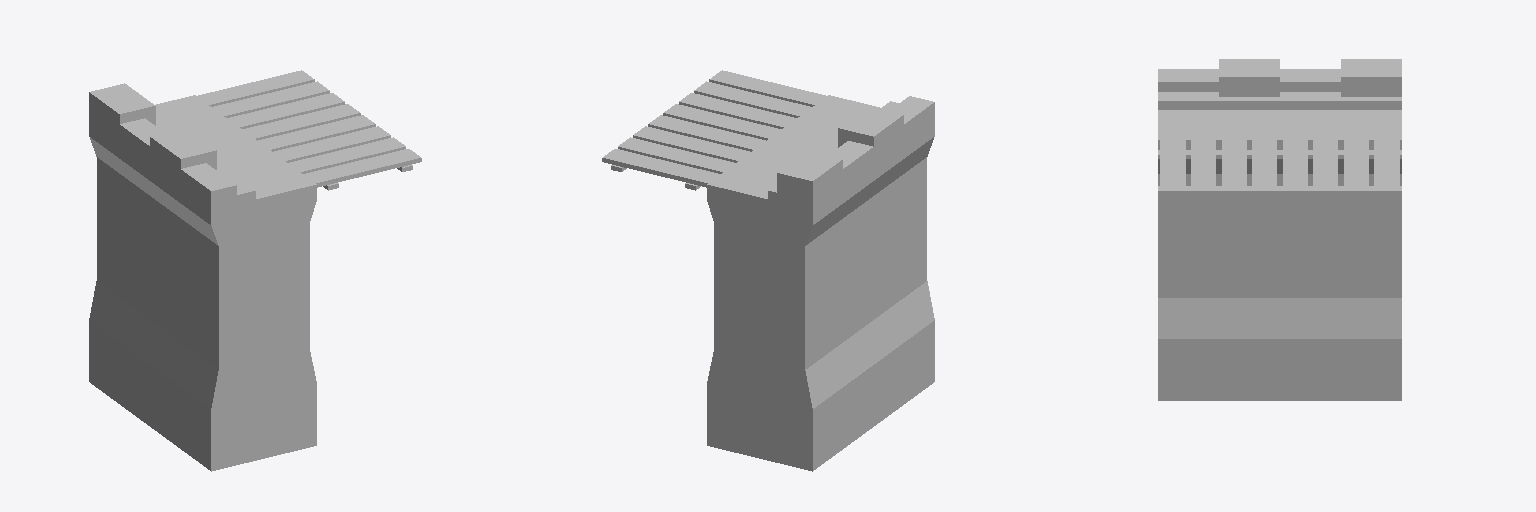
File: wallNarrowWood.obj
3 renders of one model, left to right at view 1: azimuth 30°, elevation 25°; view 2: azimuth 150°, elevation 25°; view 3: azimuth 270°, elevation 25°, orthographic.
Visible parts, largest first — view 1: wallNarrowWood, bridge 5; view 2: wallNarrowWood, bridge 5; view 3: wallNarrowWood, bridge 5.
Part boxes in pixels (left/top/right/bottom): wallNarrowWood: left=89, top=83, right=316, bottom=471; bridge 5: left=197, top=70, right=421, bottom=190; wallNarrowWood: left=707, top=95, right=934, bottom=471; bridge 5: left=602, top=70, right=826, bottom=190; wallNarrowWood: left=1158, top=59, right=1401, bottom=400; bridge 5: left=1158, top=140, right=1401, bottom=195.
Bounding box in the file's own units: 10 × 13.1 × 10.